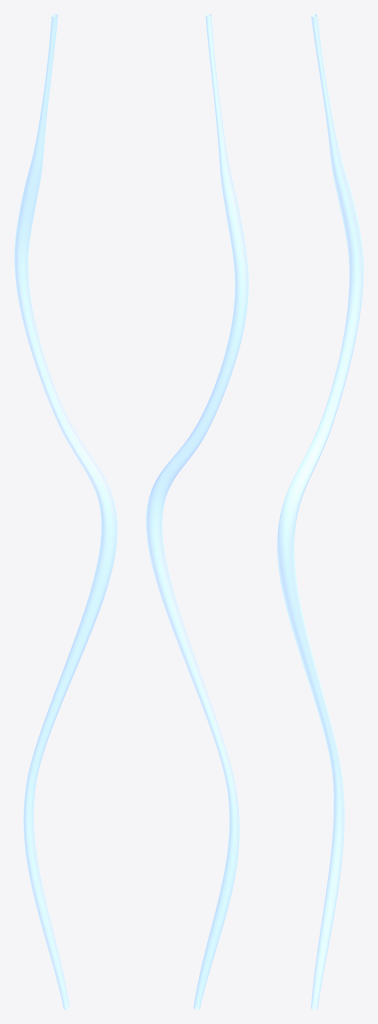
Rendered from strand_e_scenic.glb.
3 views of the same model, side by side, from view 1: azimuth 30°, elevation 25°; view 2: azimuth 210°, elevation 25°; view 3: azimuth 270°, elevation 25° (orthographic).
Bounding box in the file's own units: 0.5599 × 8.01 × 0.6366.
